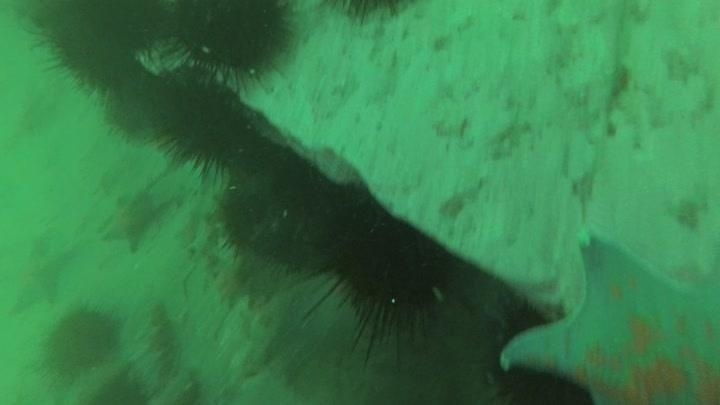echinus: (310, 196, 456, 351), (215, 156, 345, 272), (26, 1, 177, 98), (151, 72, 260, 181), (166, 1, 297, 89), (41, 301, 123, 376), (486, 296, 553, 357), (319, 1, 418, 30)
holothurian: (188, 218, 251, 309), (134, 299, 181, 390)
starfish: (495, 229, 720, 405), (1, 233, 76, 314), (96, 187, 168, 254)
